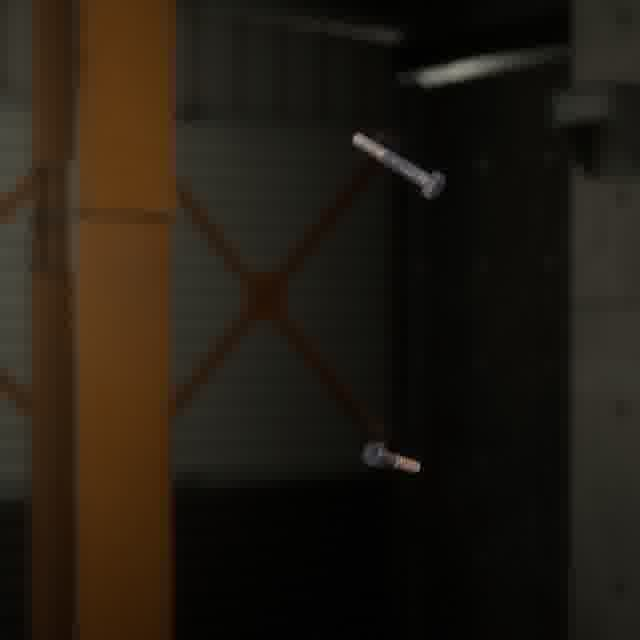bolt: (347, 128, 449, 204), (358, 437, 424, 477)
